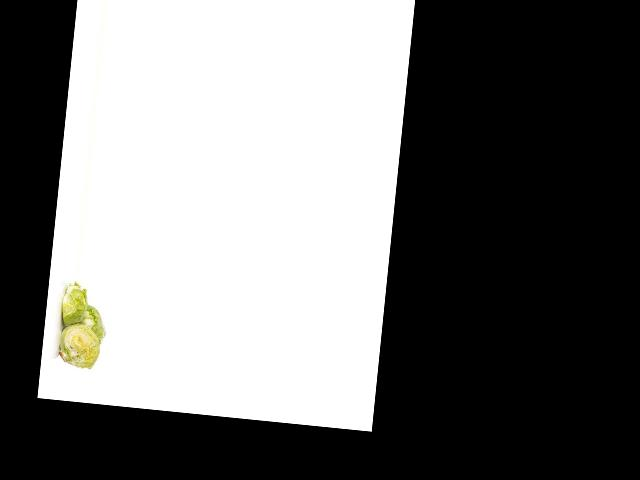lettuce: (75, 300, 109, 349)
